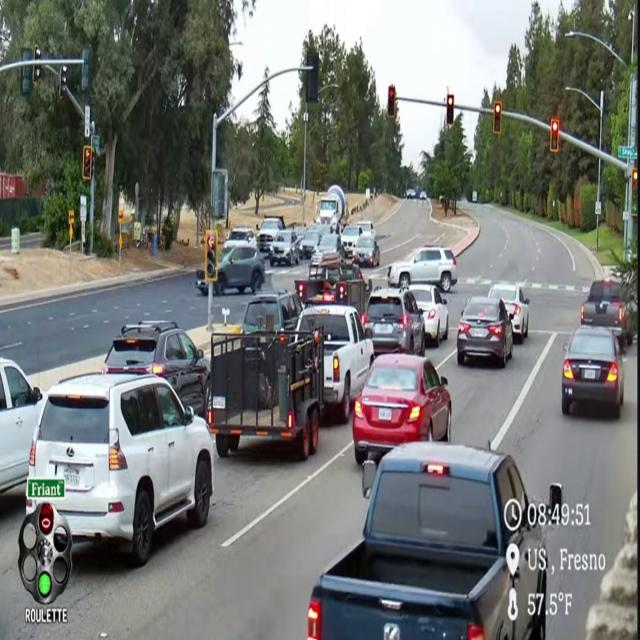car: (26, 374, 213, 566), (353, 354, 451, 464), (102, 321, 210, 415), (0, 359, 42, 493), (562, 327, 623, 417), (362, 289, 425, 356), (457, 297, 513, 367), (387, 247, 457, 293), (242, 291, 302, 332), (489, 284, 529, 343), (215, 247, 264, 295), (409, 285, 448, 345), (269, 230, 299, 266), (353, 235, 380, 266), (312, 233, 344, 259), (223, 227, 256, 249), (300, 227, 321, 259), (341, 224, 361, 257), (293, 226, 306, 253), (358, 221, 375, 238), (406, 189, 415, 199), (419, 191, 427, 200)
traffic signal: (204, 230, 218, 282), (306, 51, 319, 103), (81, 44, 93, 94), (39, 504, 54, 535), (20, 66, 32, 96), (82, 145, 92, 181), (493, 101, 502, 135), (550, 119, 559, 152), (387, 86, 396, 119), (631, 168, 637, 217), (59, 65, 67, 99), (446, 95, 454, 125), (33, 65, 40, 82), (632, 168, 637, 186)
truck: (308, 442, 562, 639), (206, 330, 324, 460), (296, 304, 373, 423), (294, 254, 372, 315), (580, 278, 633, 348), (294, 280, 371, 317), (317, 184, 347, 231), (257, 216, 286, 254)
